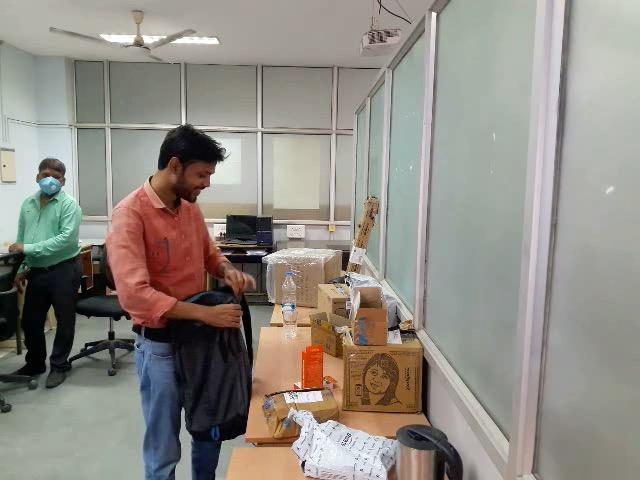shoplifting: (82, 249, 280, 475)
